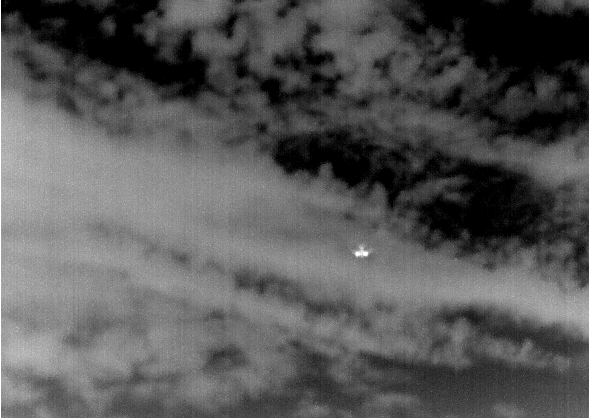dim target: (353, 245, 371, 260)
